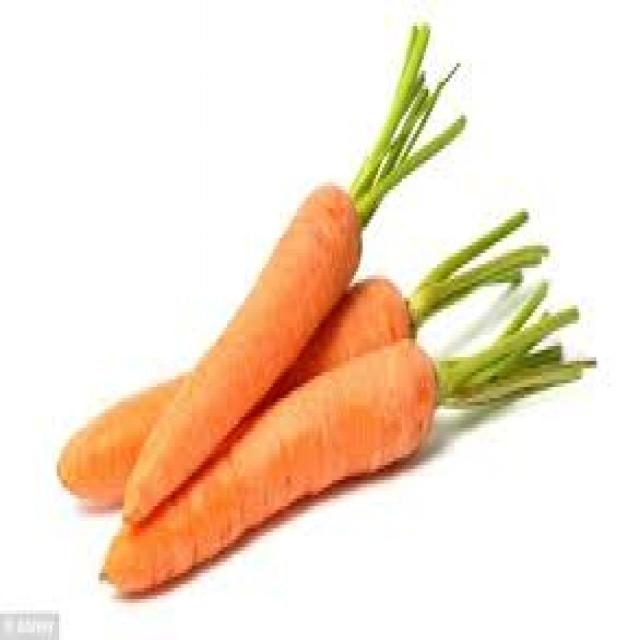organic waste: (120, 15, 465, 521), (98, 279, 594, 599), (52, 205, 546, 524)
